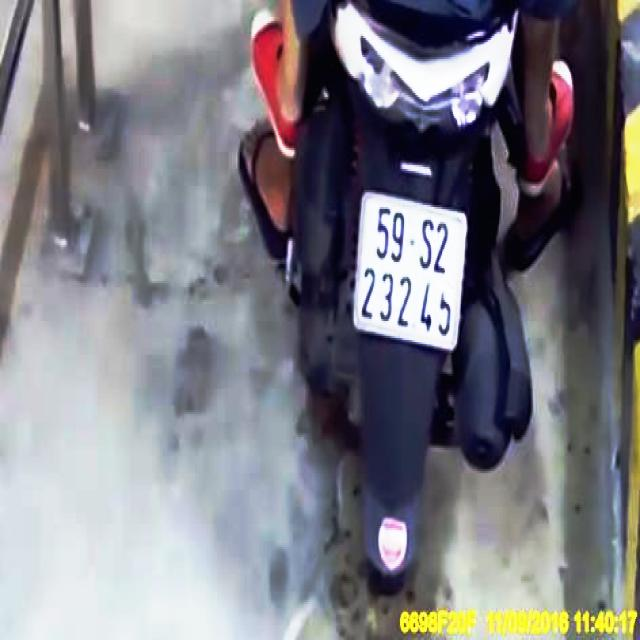license_plate: (356, 196, 467, 349)
